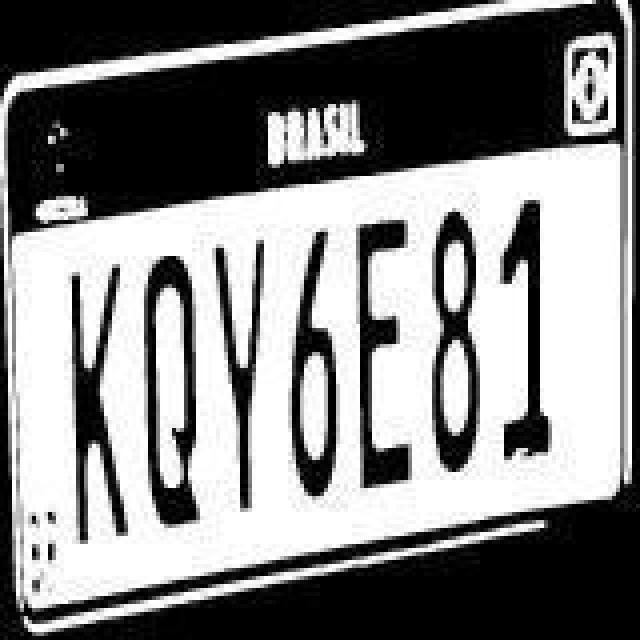1: (490, 194, 558, 462)
6: (282, 226, 342, 502)
8: (426, 210, 486, 478)
E: (352, 214, 416, 490)
K: (66, 262, 134, 546)
Q: (136, 254, 200, 530)
Y: (208, 236, 272, 516)
